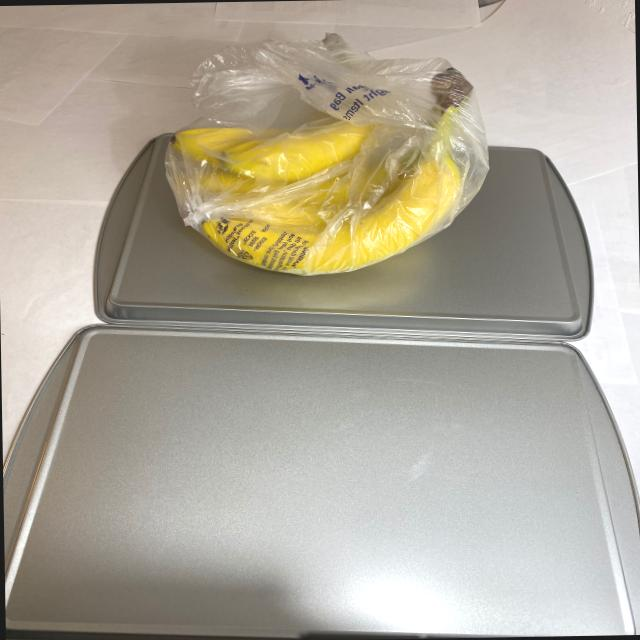banana: (154, 46, 484, 279)
